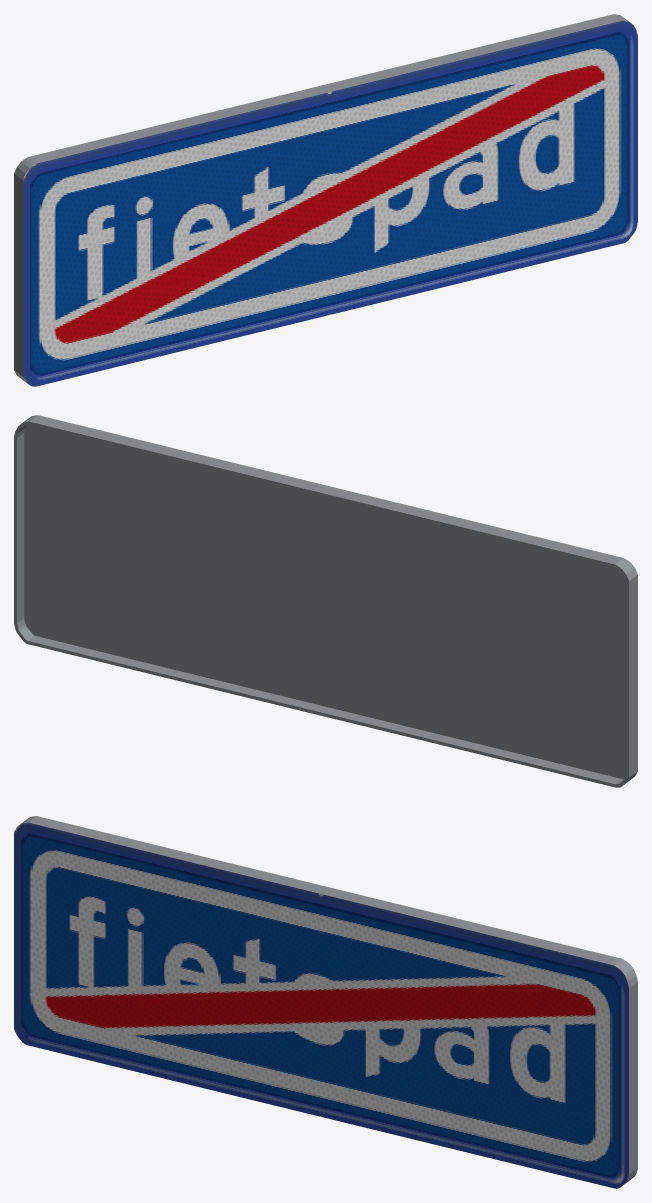
The picture shows the model from 3 angles, top to bottom: view 1: azimuth 30°, elevation 25°; view 2: azimuth 150°, elevation 25°; view 3: azimuth 330°, elevation 25°; orthographic projection.
Visible parts, largest first — view 1: cat_3c1756a8f411a23a; view 2: cat_3c1756a8f411a23a; view 3: cat_3c1756a8f411a23a.
Part boxes in pixels (left/top/right/bottom): cat_3c1756a8f411a23a: left=14, top=14, right=637, bottom=386; cat_3c1756a8f411a23a: left=14, top=415, right=637, bottom=787; cat_3c1756a8f411a23a: left=14, top=816, right=637, bottom=1188.
Size of the model in its own units: 0.6 by 0.015 by 0.2077.
2 materials, 1 textured.
